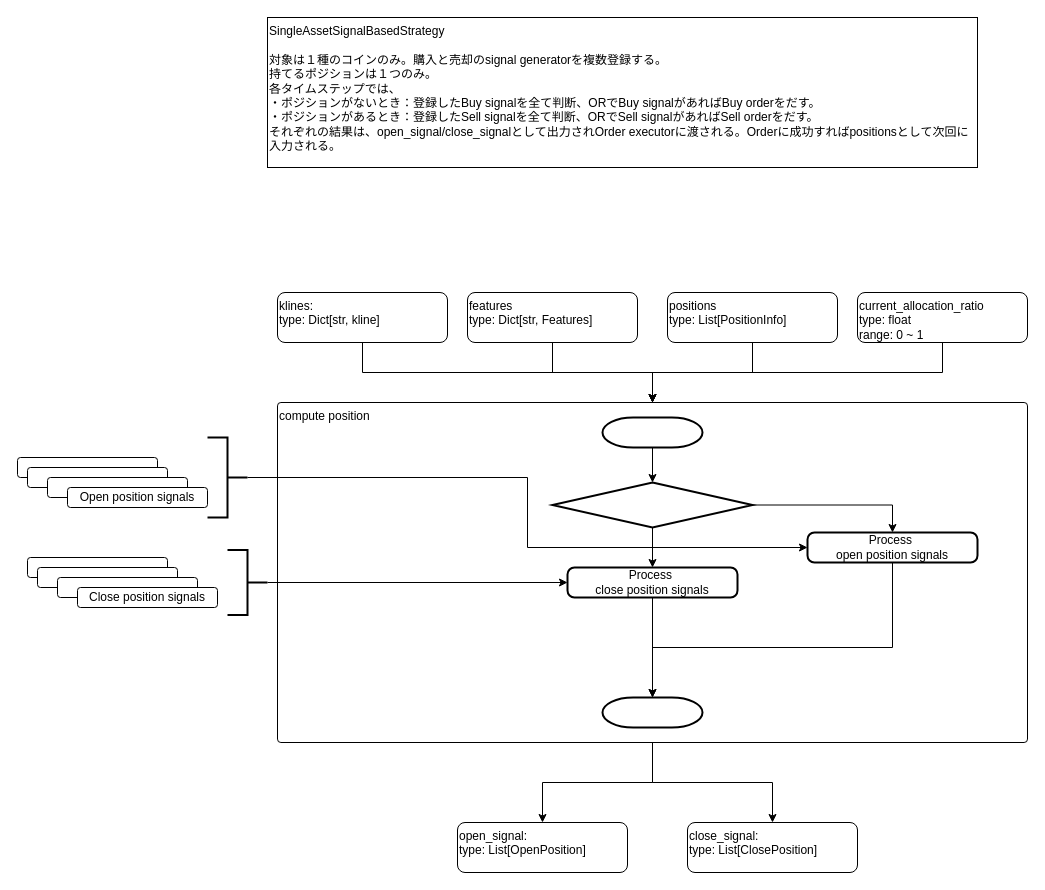
The diagram is 1045 pixels wide and 890 high, and some of its shapes have lost their labels. The shapes that lost their labels are listed below. From the top down, each one's centre as x and y in pixels, then its label:
[652,432]: Start
[652,504]: Has position?
[652,712]: End
